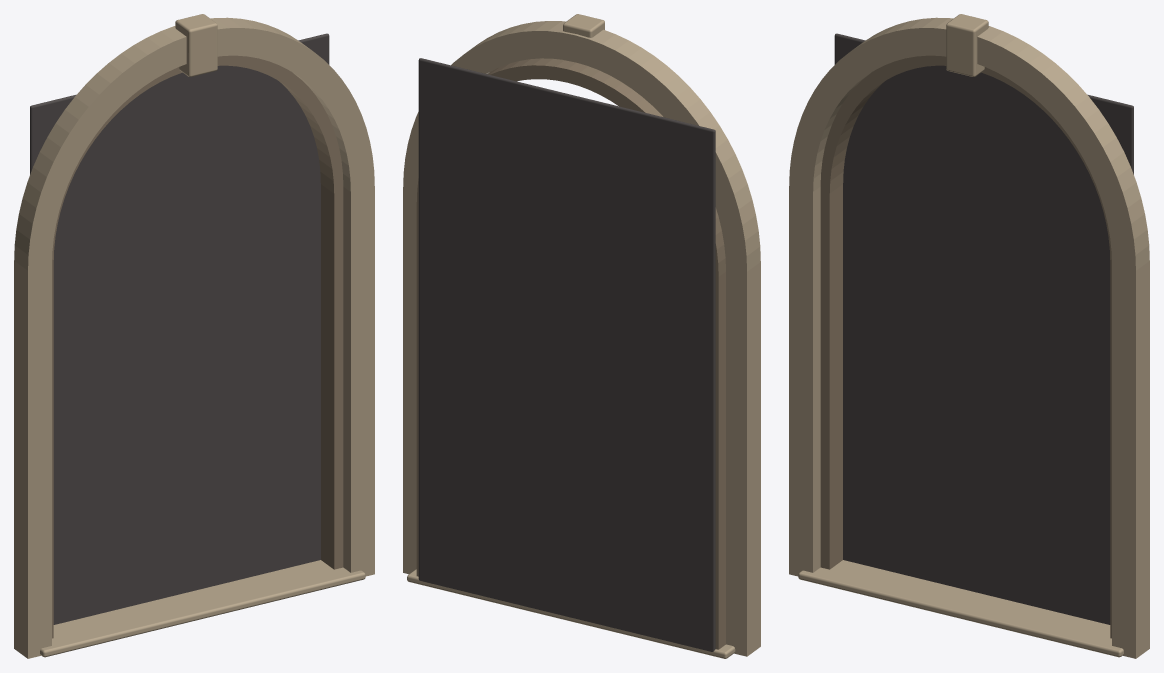
The model's file is archway.glb.
3 views of the same model, side by side, from view 1: azimuth 30°, elevation 25°; view 2: azimuth 150°, elevation 25°; view 3: azimuth 330°, elevation 25° (orthographic).
Visible parts, largest first — view 1: dark-recess-back, outer-arched-moulding, stepped-inner-reveal, threshold, crown-keystone; view 2: dark-recess-back, outer-arched-moulding, stepped-inner-reveal, threshold, crown-keystone; view 3: dark-recess-back, outer-arched-moulding, stepped-inner-reveal, threshold, crown-keystone.
Part boxes in pixels (x1,y1,x2,y2): dark-recess-back: (30, 33, 329, 624); outer-arched-moulding: (14, 17, 374, 658); stepped-inner-reveal: (52, 55, 343, 638); threshold: (40, 560, 365, 657); crown-keystone: (175, 14, 217, 76); dark-recess-back: (418, 58, 715, 651); outer-arched-moulding: (403, 21, 760, 656); stepped-inner-reveal: (416, 58, 725, 649); threshold: (407, 569, 735, 658); crown-keystone: (563, 14, 604, 62); dark-recess-back: (834, 33, 1133, 624); outer-arched-moulding: (789, 17, 1149, 658); stepped-inner-reveal: (820, 55, 1111, 638); threshold: (798, 560, 1123, 657); crown-keystone: (946, 14, 988, 76).
Size of the model in its own units: 1.88 by 3.06 by 0.25.
